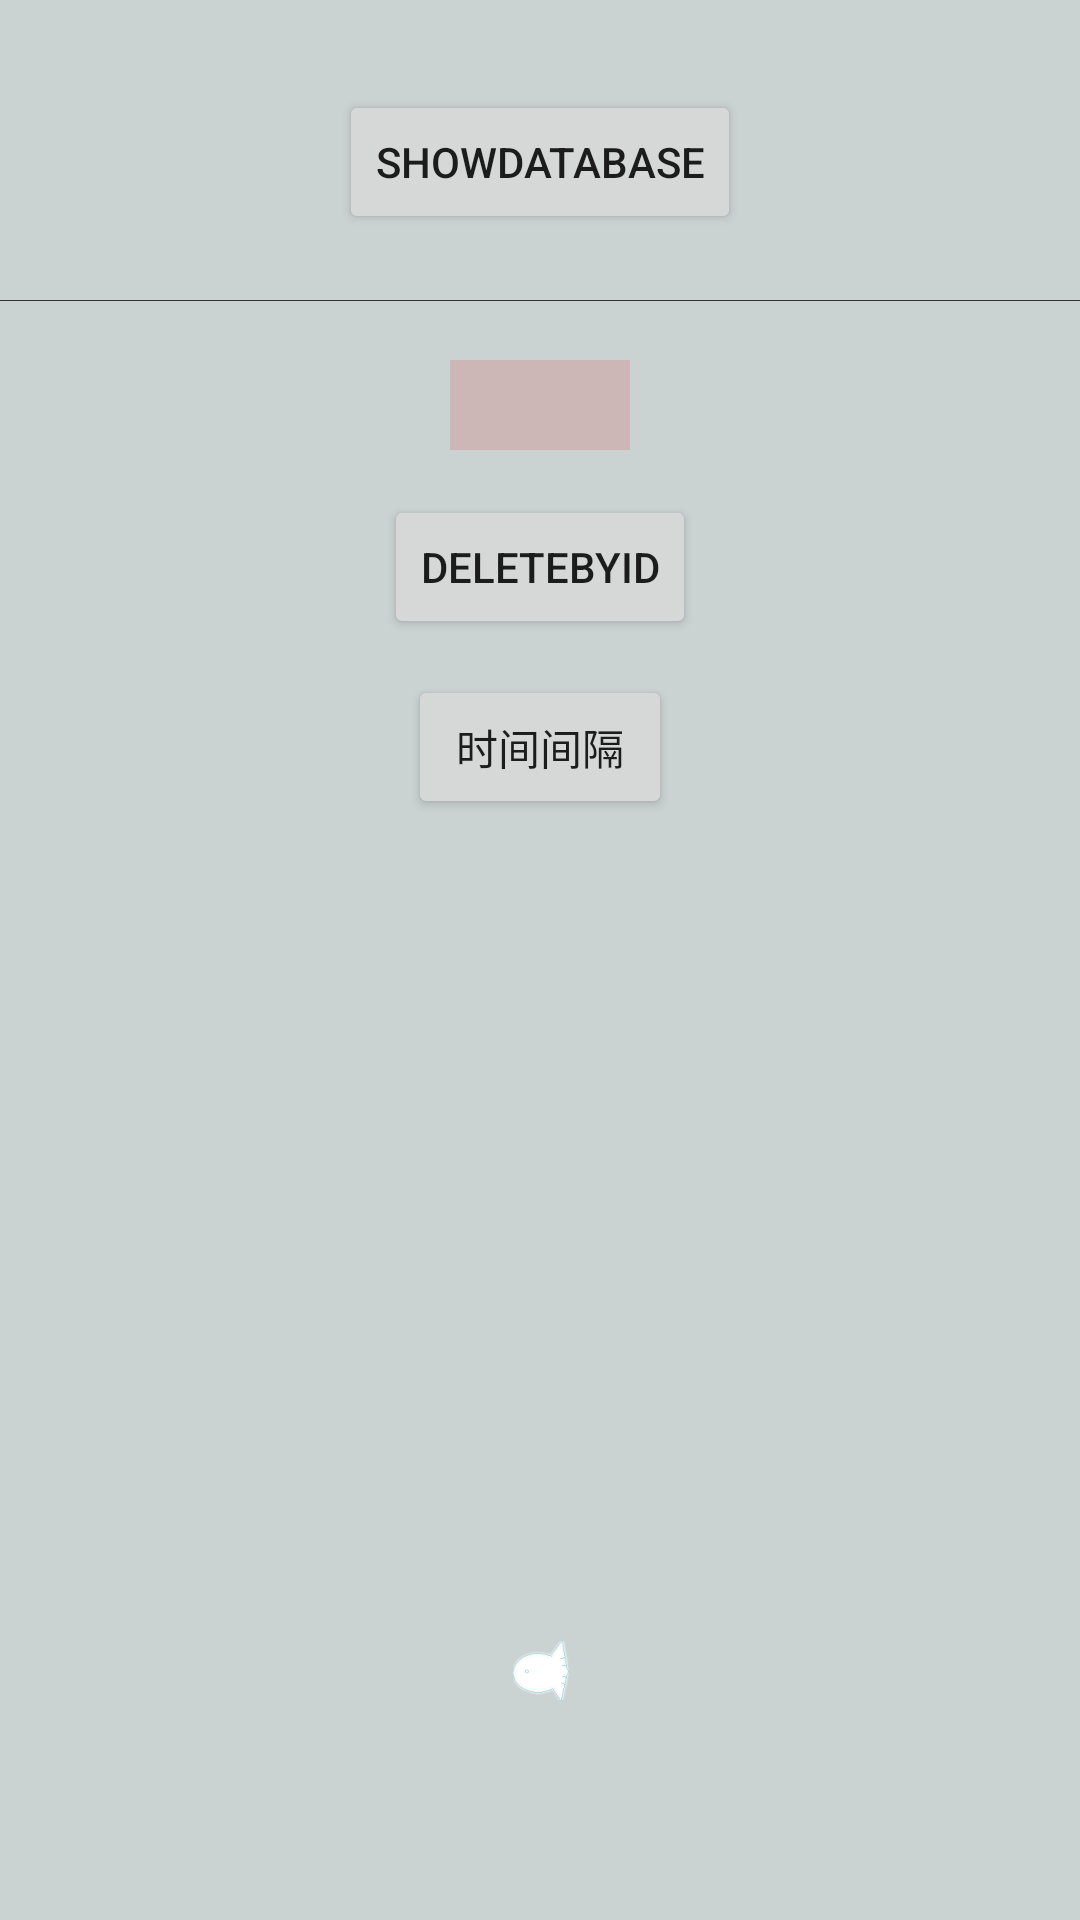

Point at icon controls on the screen. Image size 1080w x 1920h, points as (x=x, y=y).
clickmola: (x=541, y=1670)
